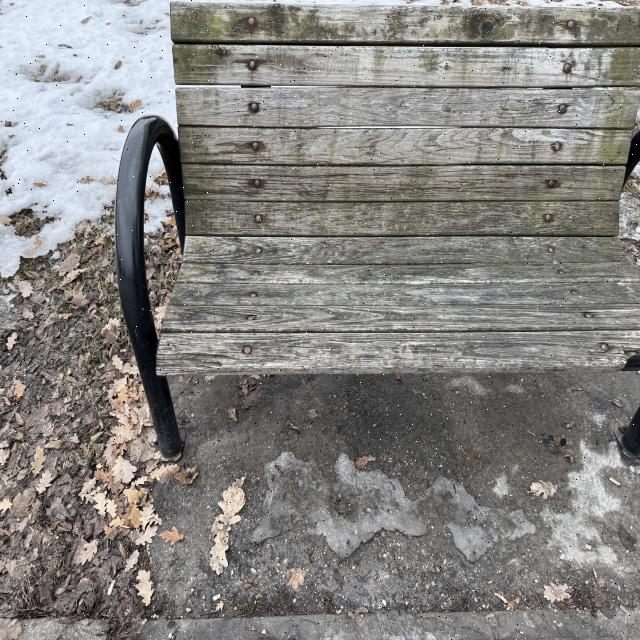Bench: (109, 7, 638, 420)
